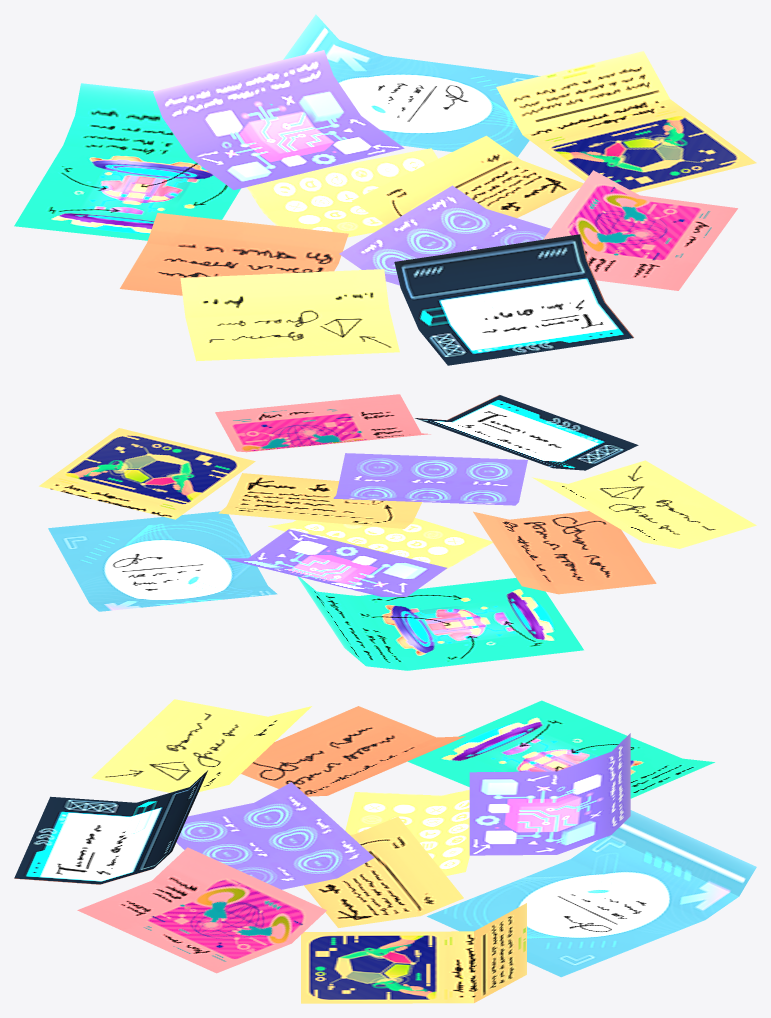
The model's file is obj_stickers03.gltf.
3 views of the same model, one above another, from view 1: azimuth 30°, elevation 25°; view 2: azimuth 150°, elevation 25°; view 3: azimuth 270°, elevation 25° (orthographic). The views are drawn at different scales.
Visible parts, largest first — view 1: obj_stickers03; view 2: obj_stickers03; view 3: obj_stickers03.
Part boxes in pixels (x1,y1,x2,y2): obj_stickers03: (14, 14, 756, 365); obj_stickers03: (39, 394, 756, 670); obj_stickers03: (14, 699, 756, 1003).
Size of what is drawn, in the model's own units: 0.8267 by 0.0786 by 0.8541.
2 materials, 2 textured.
